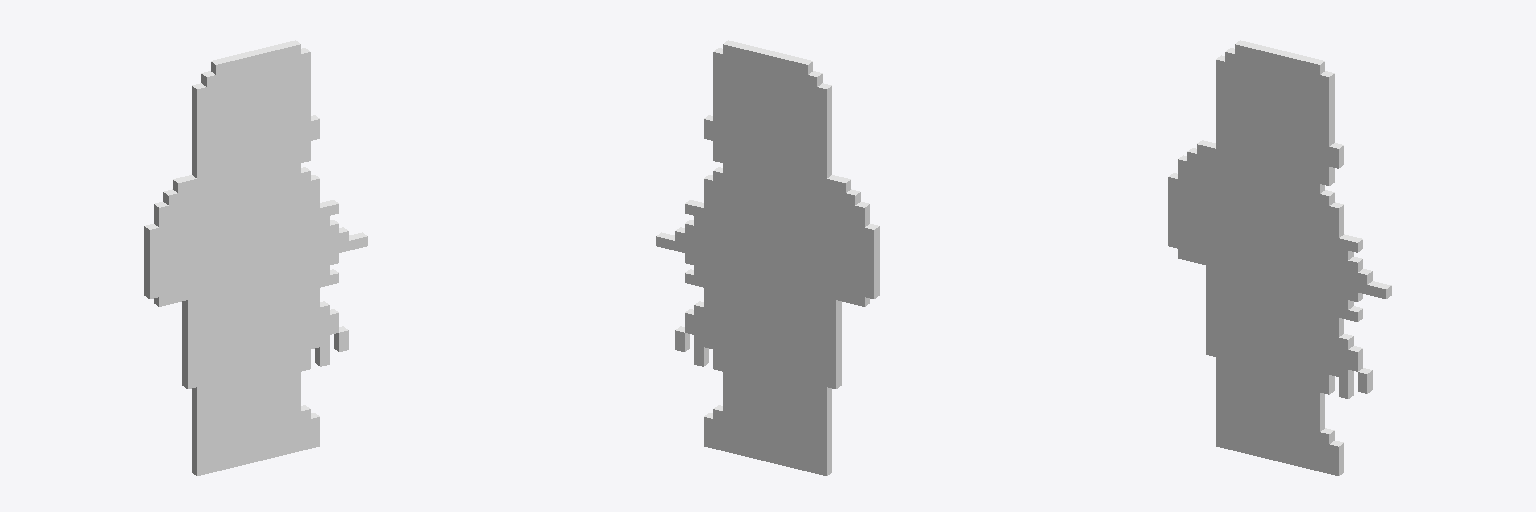
The model's file is Shooting.obj.
3 renders of one model, left to right at view 1: azimuth 30°, elevation 25°; view 2: azimuth 150°, elevation 25°; view 3: azimuth 330°, elevation 25°, orthographic.
Parts seen in each view (by area): view 1: object 1; view 2: object 1; view 3: object 1.
Boxes of the visible parts, x1,y1,x2,y2 form: object 1: [144, 40, 367, 475]; object 1: [656, 40, 879, 475]; object 1: [1168, 40, 1391, 475].
Bounding box in the file's own units: 2.3 × 4.1 × 0.1.